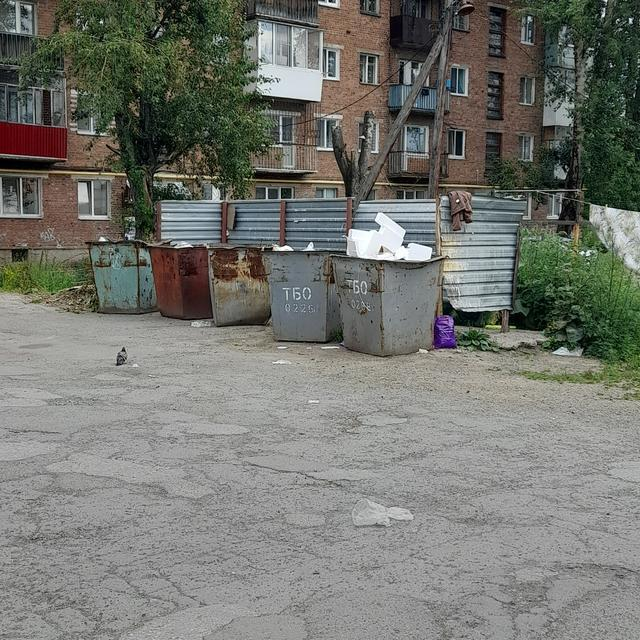Trash_Can_Empty: (263, 251, 339, 342), (90, 241, 156, 313), (149, 245, 210, 319), (210, 248, 269, 323)
Trash_Can_Full: (331, 211, 444, 356)
